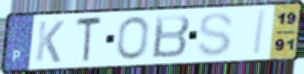B: (150, 13, 193, 60)
I: (252, 9, 269, 57)
K: (33, 19, 66, 64)
O: (116, 15, 151, 61)
S: (195, 11, 236, 59)
T: (75, 15, 104, 66)
